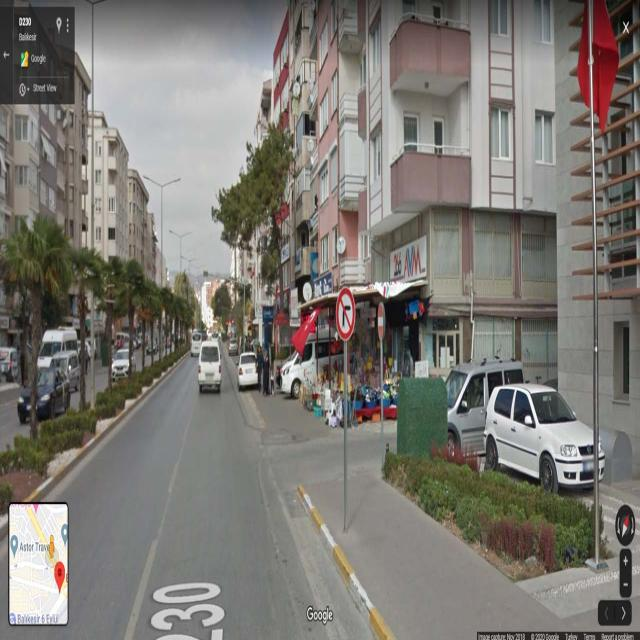sagadonulmez: (334, 288, 356, 340)
